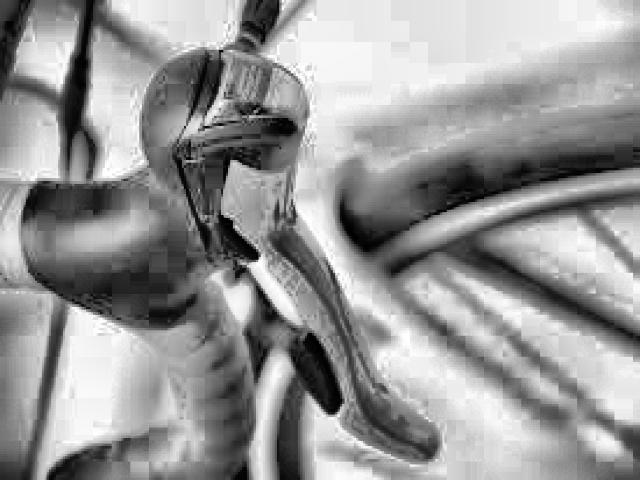sti_shifter: (109, 54, 448, 460)
